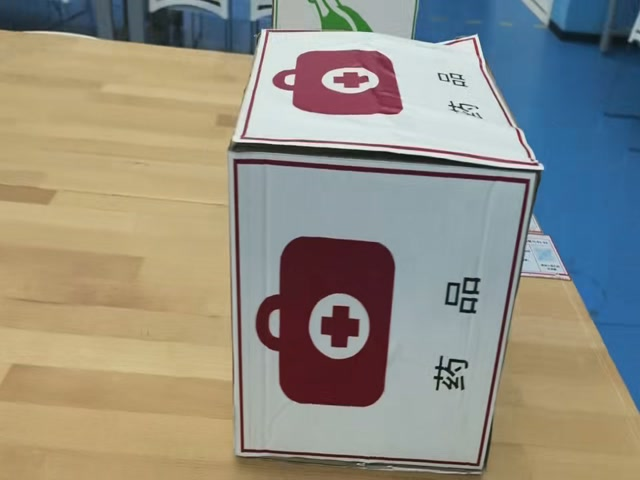Cube_medicine: (236, 23, 530, 173)
